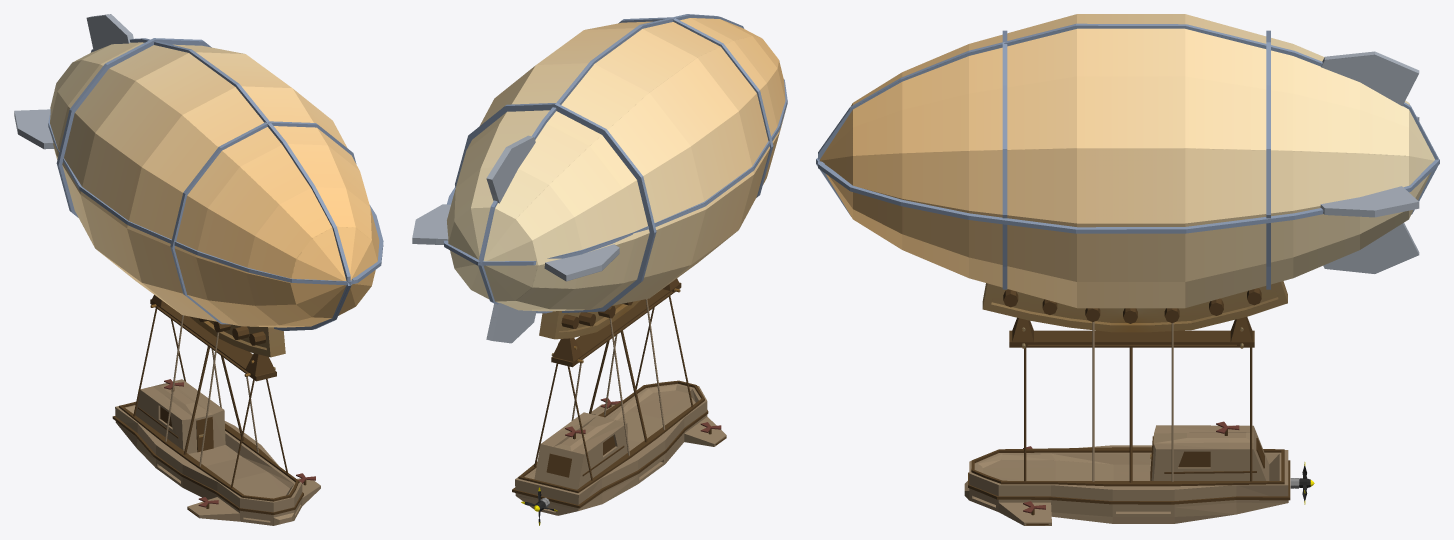
File: AirShip.glb
3 renders of one model, left to right at view 1: azimuth 30°, elevation 25°; view 2: azimuth 150°, elevation 25°; view 3: azimuth 270°, elevation 25°, orthographic. The views are drawn at different scales.
Parts seen in each view (by area): view 1: Node; view 2: Node; view 3: Node.
Part boxes in pixels (x1,y1,x2,y2): Node: [14, 14, 383, 525]; Node: [412, 14, 787, 515]; Node: [816, 14, 1439, 525].
Bounding box in the file's own units: 1.06 × 1.92 × 2.2.
Materials: 4 (1 with a texture image).
